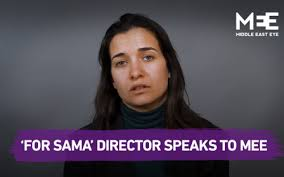middle_eastern_Female: (111, 27, 176, 111)
